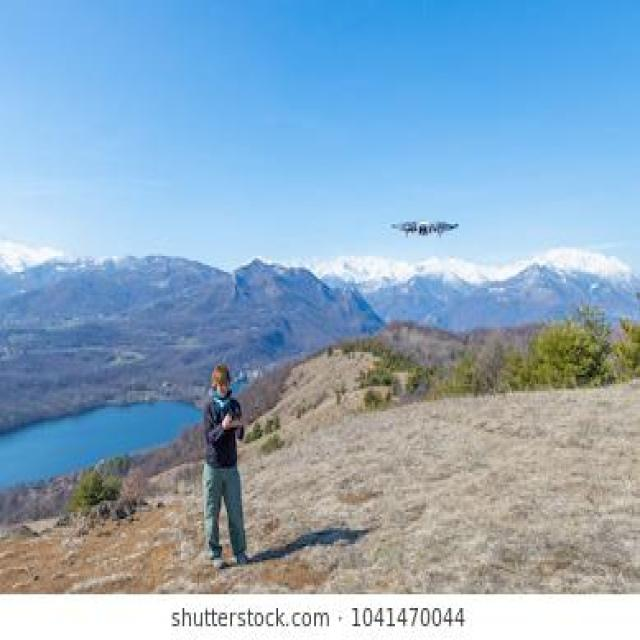drone: (382, 203, 468, 264)
